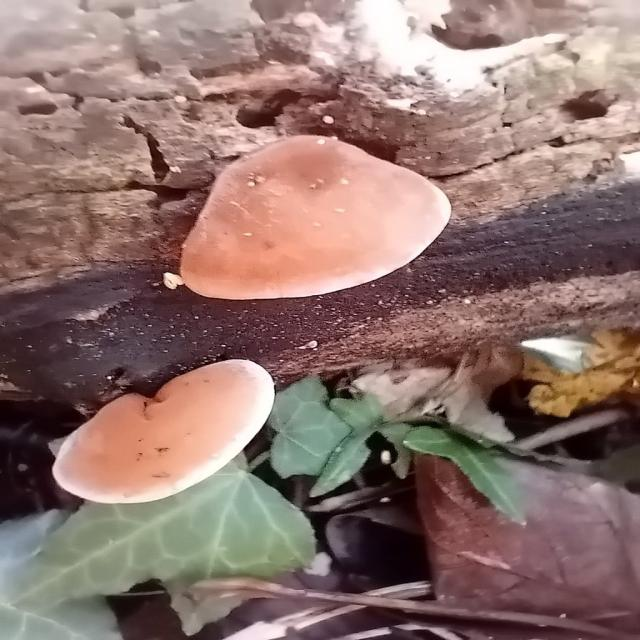Matang: (172, 133, 457, 306), (42, 348, 280, 512)
